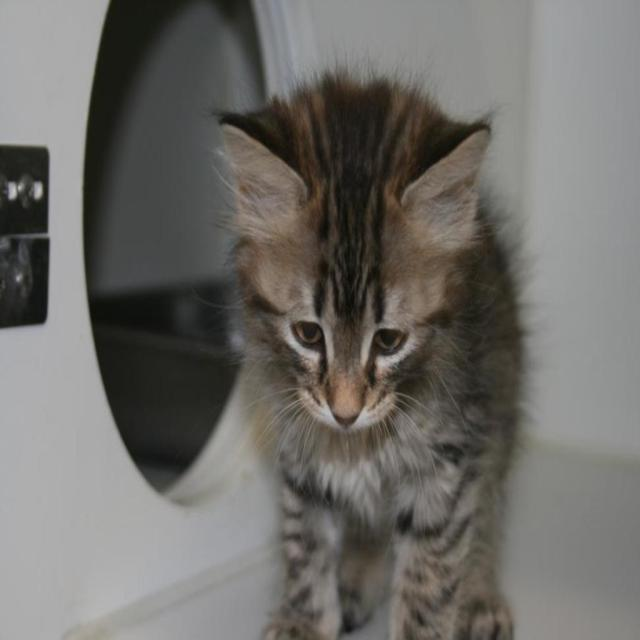Cat: (193, 37, 544, 639)
